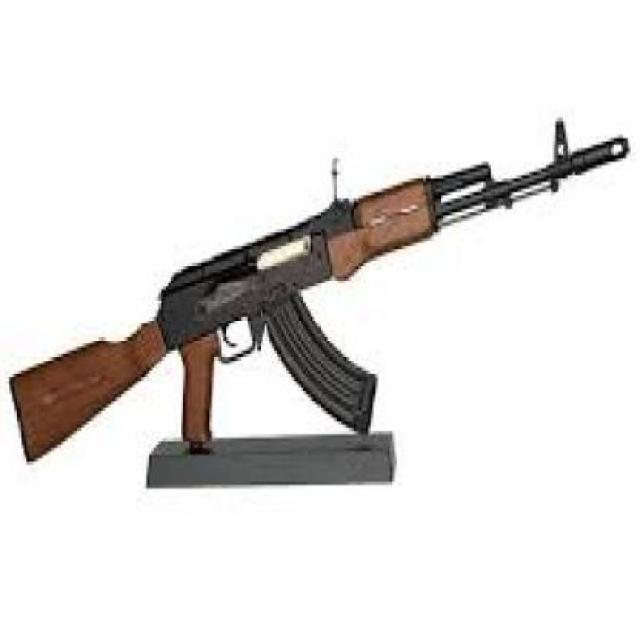weapon: (0, 112, 630, 495)
